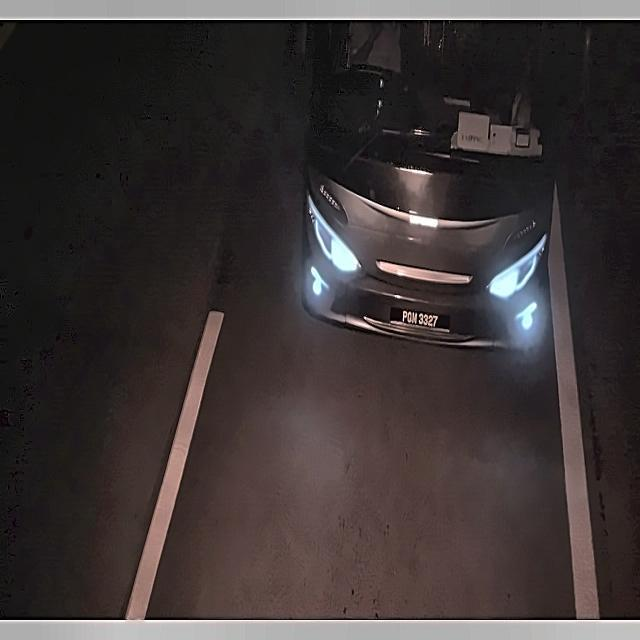car: (393, 303, 443, 336)
